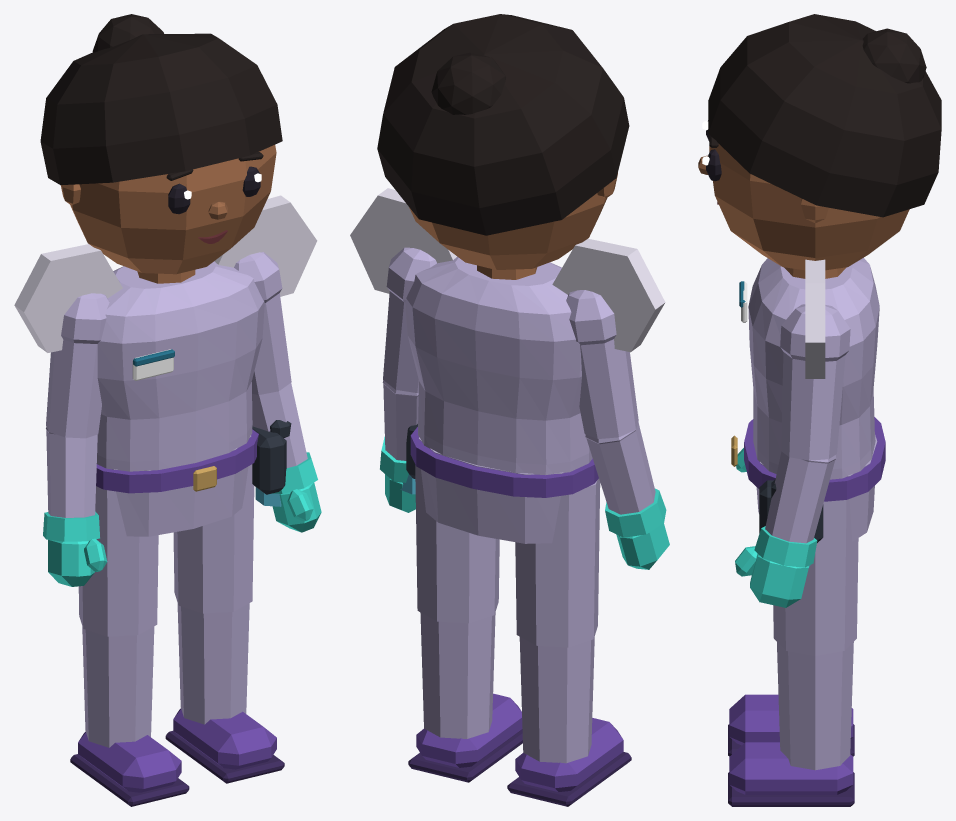
Rendered from rei_pri.glb.
3 views of the same model, side by side, from view 1: azimuth 30°, elevation 25°; view 2: azimuth 150°, elevation 25°; view 3: azimuth 270°, elevation 25° (orthographic). The views are drawn at different scales.
Parts seen in each view (by area): view 1: haare, torso, kopf, bein_r, bein_l, arm_r, schulterpaneele, arm_l, schuh_r, schuh_l, becken, gürtel (+5 smaller); view 2: haare, torso, bein_r, bein_l, arm_r, schulterpaneele, arm_l, becken, kopf, schuh_r, schuh_l, gürtel (+2 smaller); view 3: haare, bein_l, torso, arm_l, kopf, schuh_l, gürtel, schuh_r, hand_l, schulterpaneele, becken, accessoire_sprayholster (+1 smaller).
Part boxes in pixels (x1,y1,x2,y2): haare: (40,14,282,185); torso: (96,261,264,471); kopf: (61,145,276,274); bein_r: (78,486,158,747); bein_l: (173,464,254,724); arm_r: (43,293,109,541); schulterpaneele: (14,195,317,352); arm_l: (234,252,317,493); schuh_r: (70,731,189,806); schuh_l: (165,708,284,783); becken: (112,435,251,536); gürtel: (96,429,258,493); haare: (377,14,629,235); torso: (405,256,592,475); bein_r: (515,478,600,763); bein_l: (415,465,499,738); arm_r: (566,290,666,537); schulterpaneele: (350,188,665,352); arm_l: (380,247,436,482); becken: (418,437,564,543); kopf: (409,173,617,269); schuh_r: (507,718,631,806); schuh_l: (408,693,522,782); gürtel: (410,427,598,497); haare: (708,14,941,217); bein_l: (773,499,858,770); torso: (748,257,879,479); arm_l: (754,304,850,567); kopf: (709,144,909,270); schuh_l: (728,742,854,806); gürtel: (731,417,885,501); schuh_r: (728,694,854,756); hand_l: (735,546,808,607); schulterpaneele: (805,259,825,378); becken: (756,435,877,541); accessoire_sprayholster: (759,479,823,567).
Bounding box in the file's own units: 0.0105 × 0.0244 × 0.0073.
